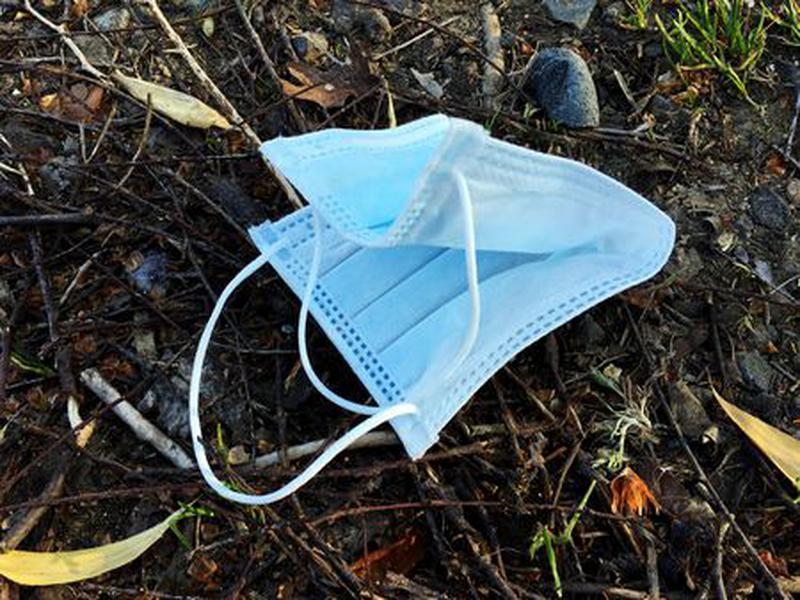leaf: (1, 495, 194, 589), (701, 369, 800, 502), (105, 61, 242, 134)
mask: (160, 104, 687, 509)
